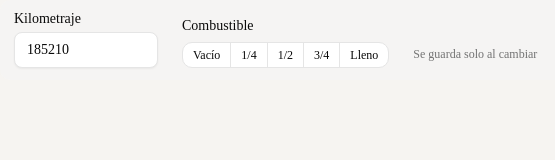
RecepcionForm › guarda solo al elegir el combustible, con el kilometraje que hay
Click the radio button labelled "1/2": (286, 55) top-left (268, 43), bottom-right (304, 67)
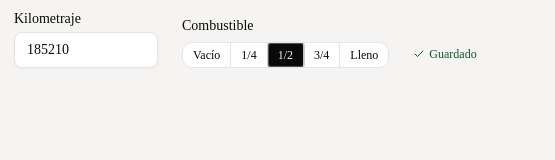
Check: the message reads "Guardado", box top-left (429, 47), bottom-right (477, 61)
